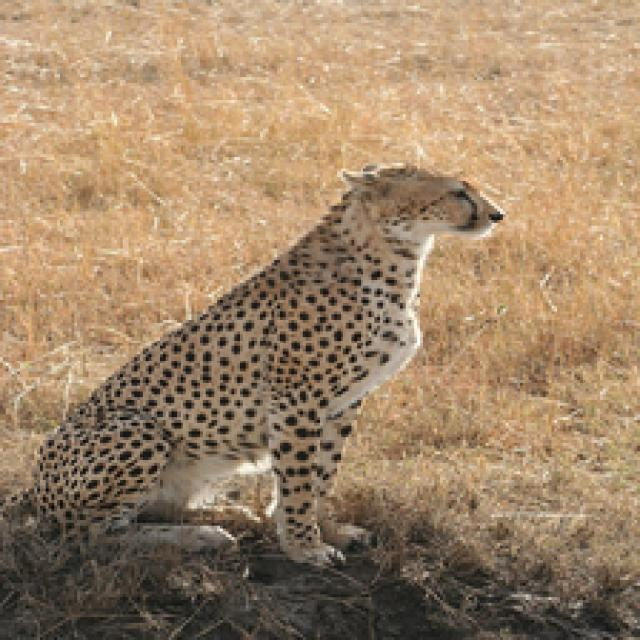cheetah: (21, 150, 513, 590)
